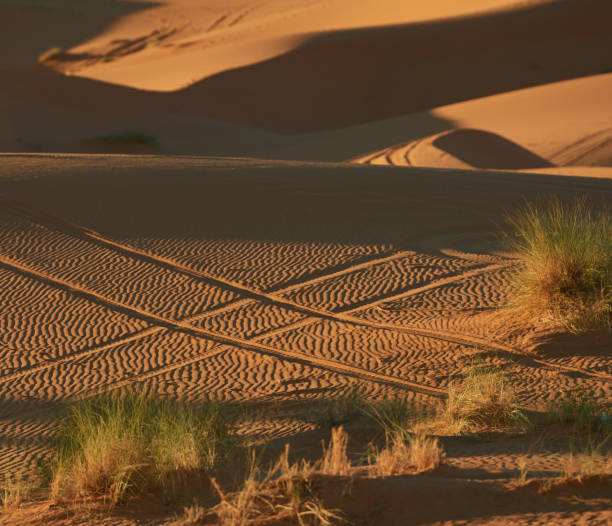vehicle_track: (0, 197, 524, 358), (0, 255, 445, 396)
